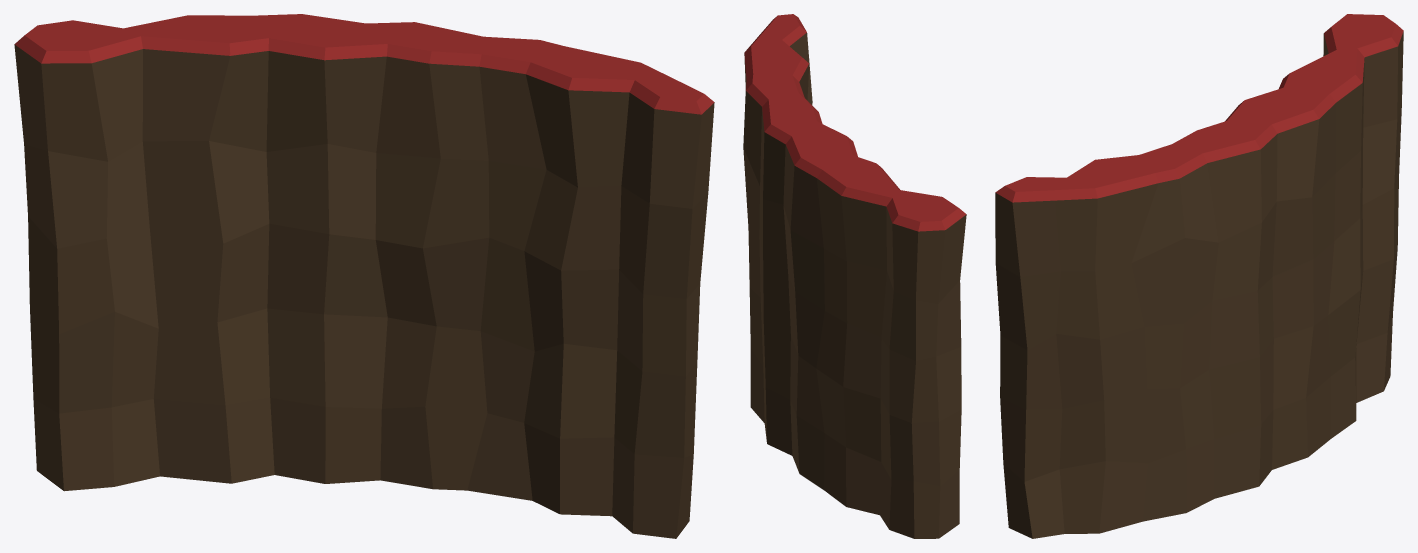
Rendered from ForestCliff.fbx.
3 views of the same model, side by side, from view 1: azimuth 30°, elevation 25°; view 2: azimuth 150°, elevation 25°; view 3: azimuth 270°, elevation 25° (orthographic). The views are drawn at different scales.
Parts seen in each view (by area): view 1: Morro.001; view 2: Morro.001; view 3: Morro.001.
Part boxes in pixels (x1,y1,x2,y2): Morro.001: [14, 14, 714, 538]; Morro.001: [743, 14, 966, 538]; Morro.001: [995, 14, 1403, 538].
Bounding box in the file's own units: 900 × 802 × 848.
